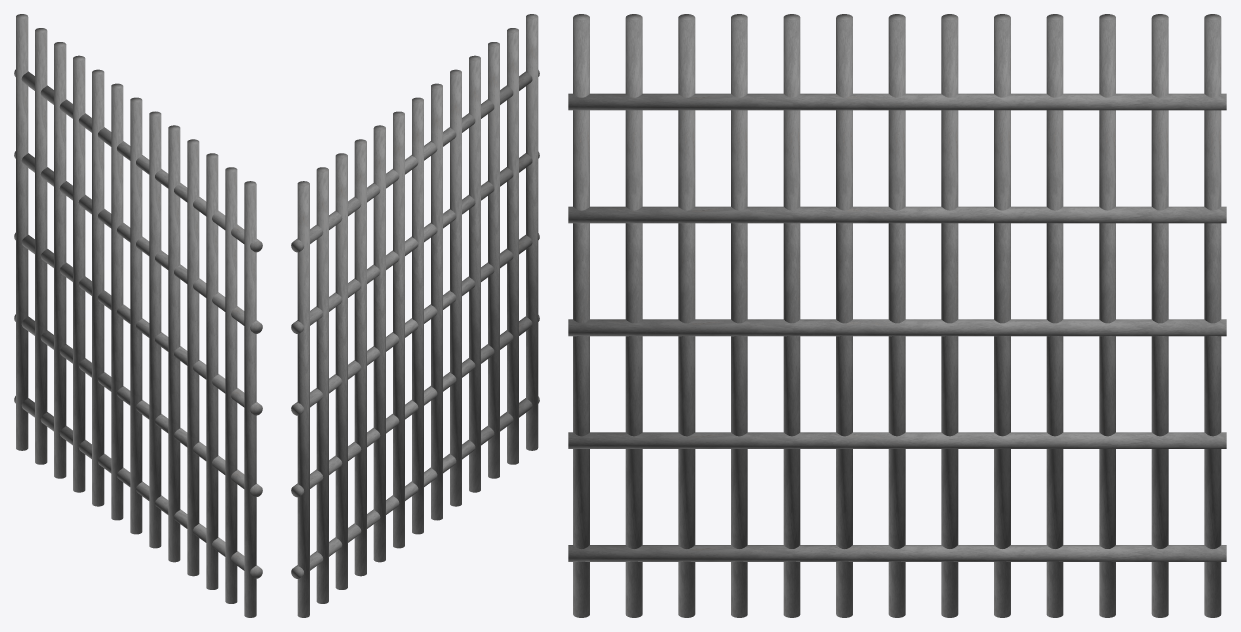
The model's file is resetke.obj.
3 renders of one model, left to right at view 1: azimuth 30°, elevation 25°; view 2: azimuth 150°, elevation 25°; view 3: azimuth 270°, elevation 25°, orthographic. The views are drawn at different scales.
Parts seen in each view (by area): view 1: resetke_vertikala_Cylinder.004; view 2: resetke_vertikala_Cylinder.004; view 3: resetke_vertikala_Cylinder.004.
Part boxes in pixels (x1=…): resetke_vertikala_Cylinder.004: x1=14, y1=14, x2=262, y2=617; resetke_vertikala_Cylinder.004: x1=291, y1=14, x2=539, y2=617; resetke_vertikala_Cylinder.004: x1=568, y1=14, x2=1226, y2=617.
Bounding box in the file's own units: 0.1175 × 3.76 × 3.76.
2 materials, 2 textured.
